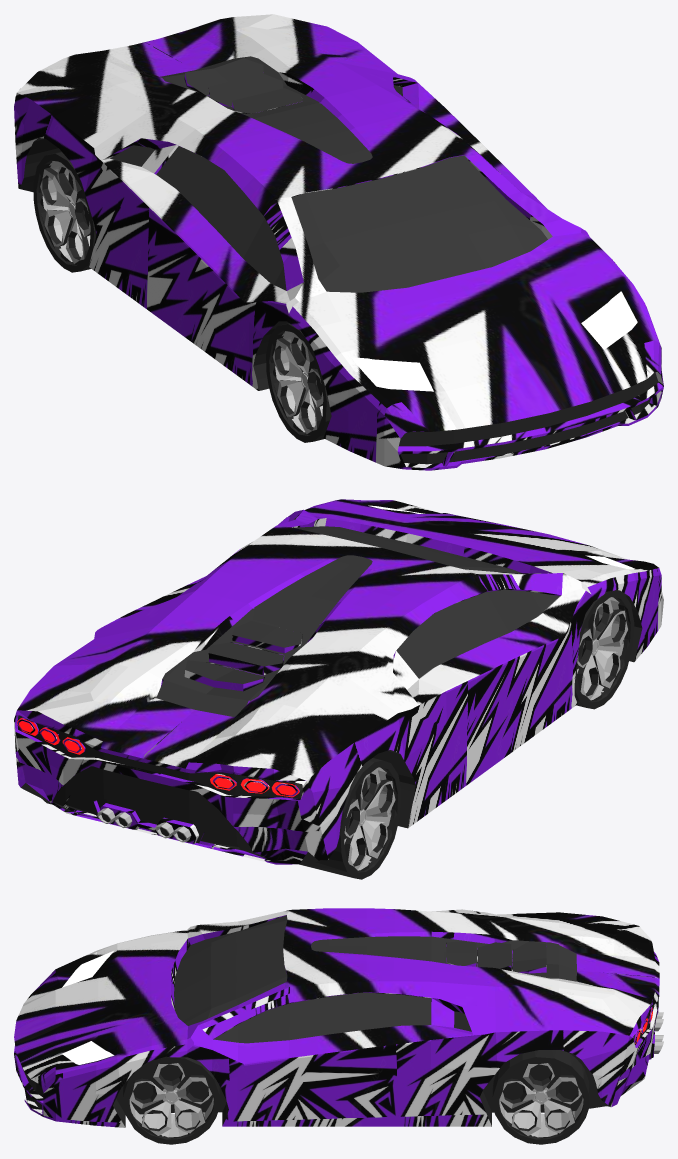
Rendered from Countach_rework.glb.
3 views of the same model, one above another, from view 1: azimuth 30°, elevation 25°; view 2: azimuth 150°, elevation 25°; view 3: azimuth 270°, elevation 25° (orthographic). The views are drawn at different scales.
Parts seen in each view (by area): view 1: Cube, Circle.003, Circle.004; view 2: Cube, Circle.004, Circle.003; view 3: Cube, Circle.001, Circle.002.
Boxes of the visible parts, bbox=[...] form: Cube: bbox=[14, 14, 663, 470]; Circle.003: bbox=[266, 323, 331, 442]; Circle.004: bbox=[33, 151, 96, 272]; Cube: bbox=[14, 499, 663, 864]; Circle.004: bbox=[299, 758, 401, 879]; Circle.003: bbox=[574, 590, 634, 709]; Cube: bbox=[14, 908, 663, 1127]; Circle.001: bbox=[492, 1050, 589, 1144]; Circle.002: bbox=[123, 1056, 219, 1144].
Bounding box in the file's own units: 2.21 × 1.17 × 4.88.
10 materials, 1 textured.
